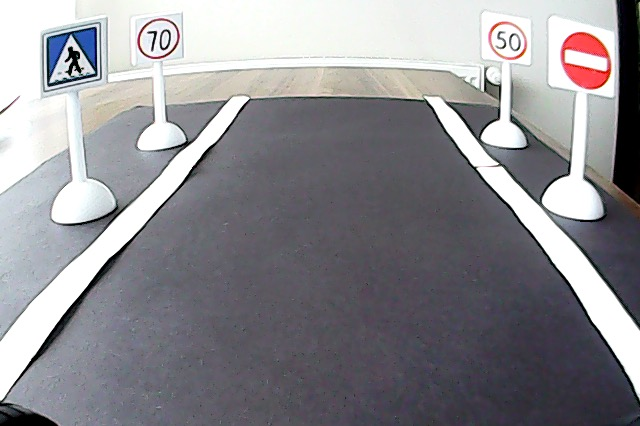do not enter: (556, 27, 614, 95)
pedestrian crossing: (40, 22, 104, 93)
speed limit 50: (485, 18, 530, 62)
speed limit 70: (134, 15, 183, 62)
